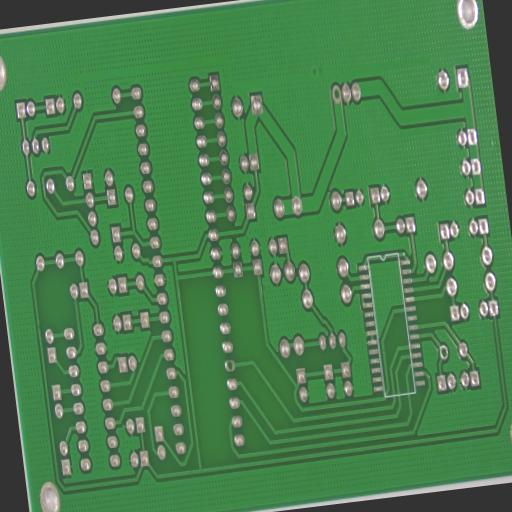missing_hole: (331, 84, 342, 105), (438, 344, 450, 362), (224, 358, 236, 373)
